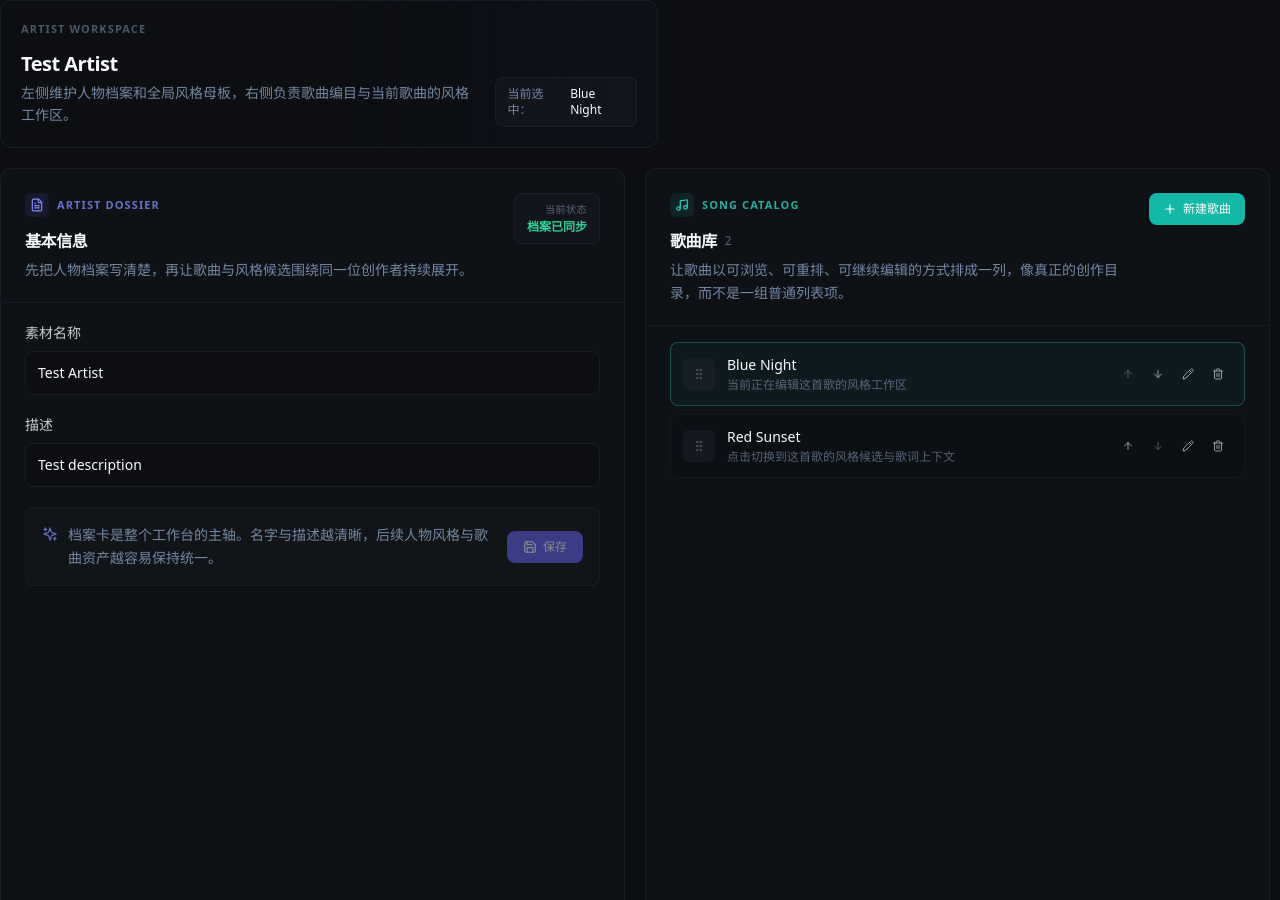
Test case: ArtistWorkspace › switches song selection and updates the song prompt panel
Click the button named "Red Sunset点击切换到这首歌的风格候选与歌词上下文": coordinates (914, 446) [727,426,1102,464]
(page scrolled)
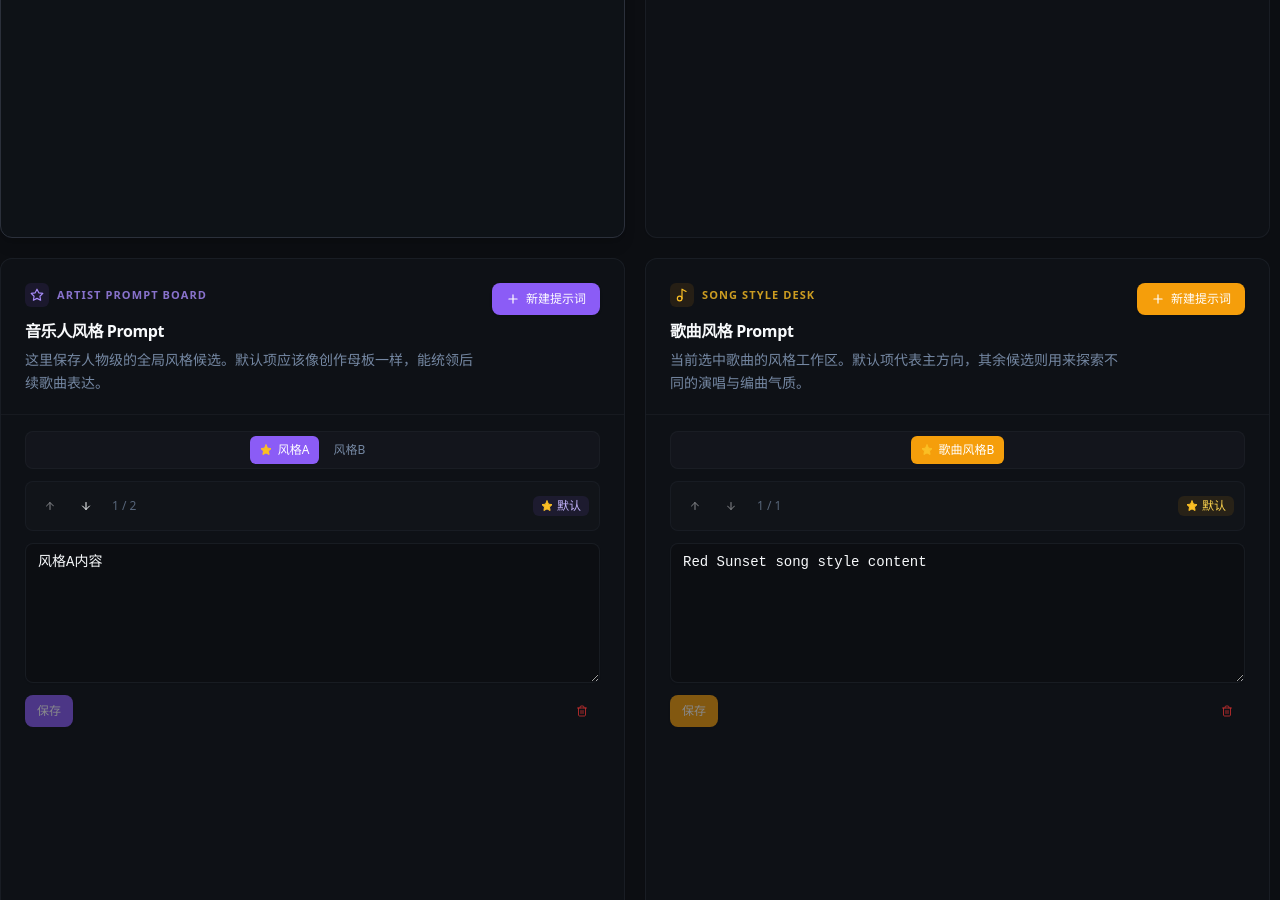
Result: the tab "歌曲风格B" is shown at [911,436,1004,464]
